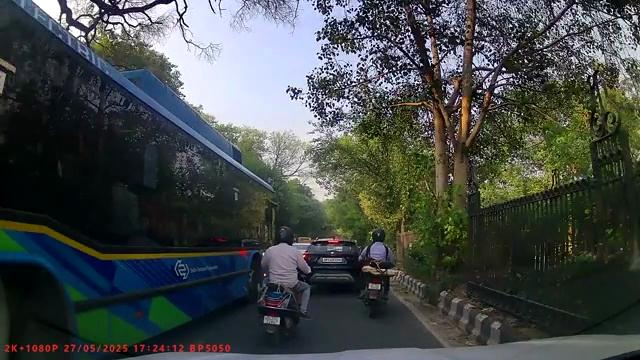motorcycle_with_helmet: (255, 224, 312, 344), (358, 226, 397, 318)
